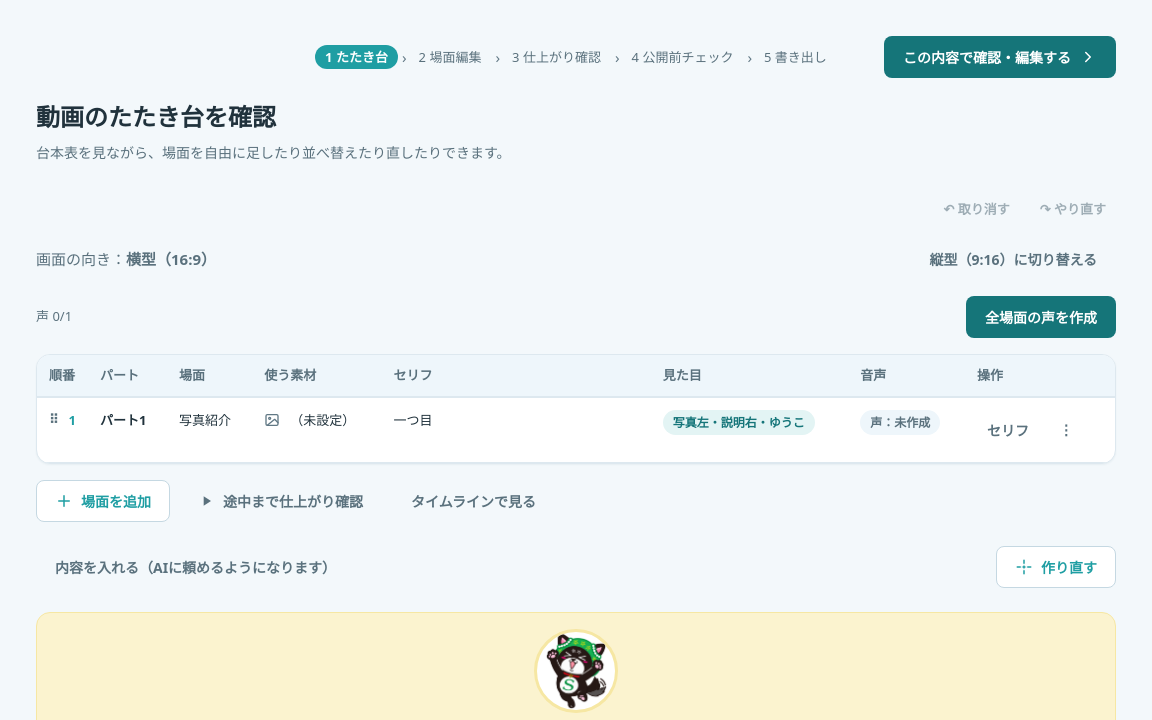
Test: 台本表の行の操作 › 最後の1場面は消せない（場面編集のカードと同じ条件・同じ理由）
Click the button named "1番目の場面の操作".
click(1066, 430)  # box top-left (1049, 410), bottom-right (1083, 449)
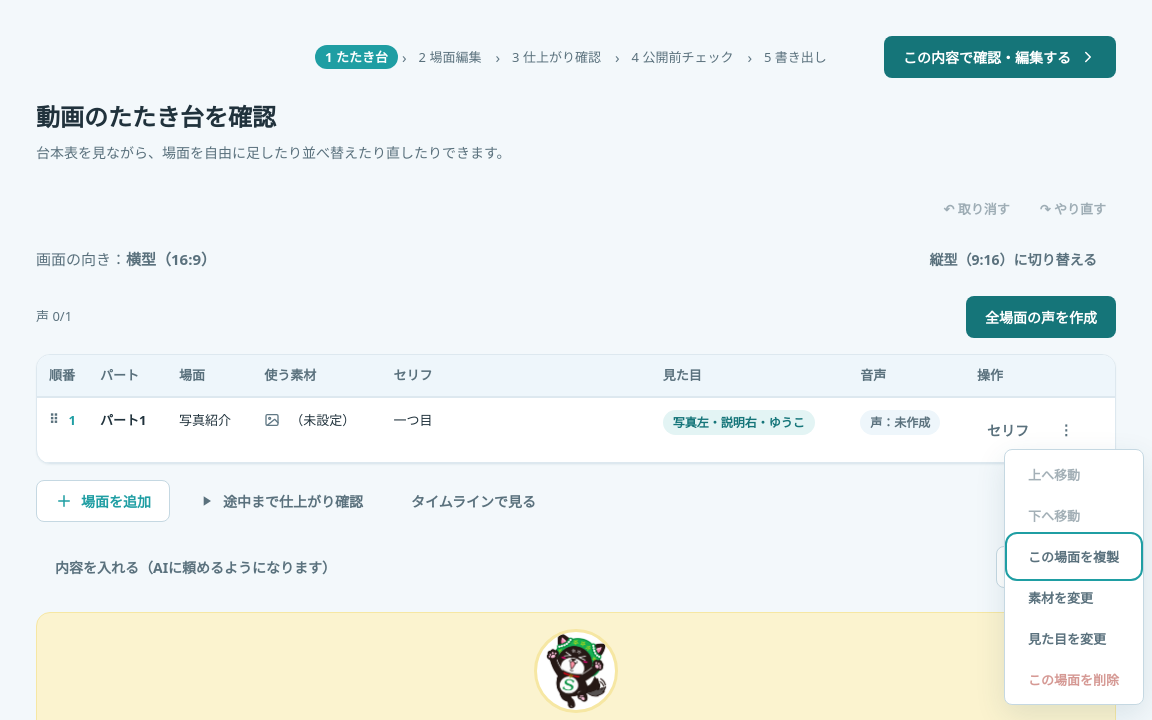
Expected: the menu item "この場面を削除" is disabled, top-left (1009, 659), bottom-right (1139, 700)
